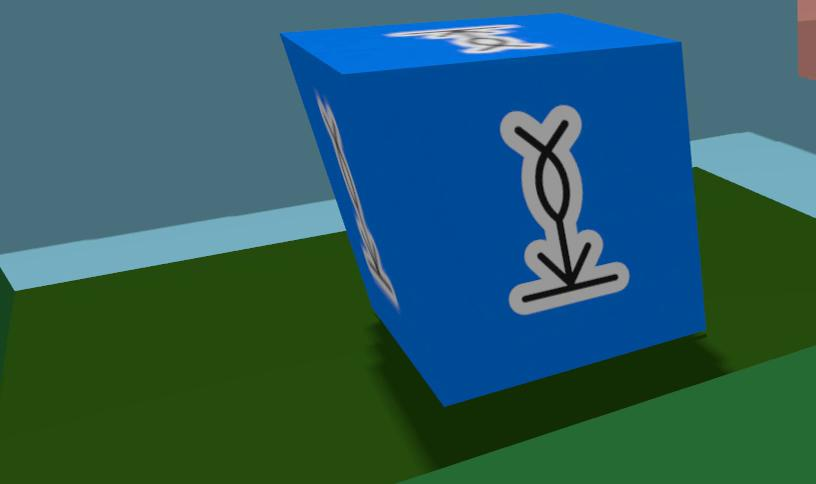KFS_REAL: (284, 14, 704, 404), (501, 105, 628, 314), (316, 92, 399, 309), (388, 25, 550, 52)
